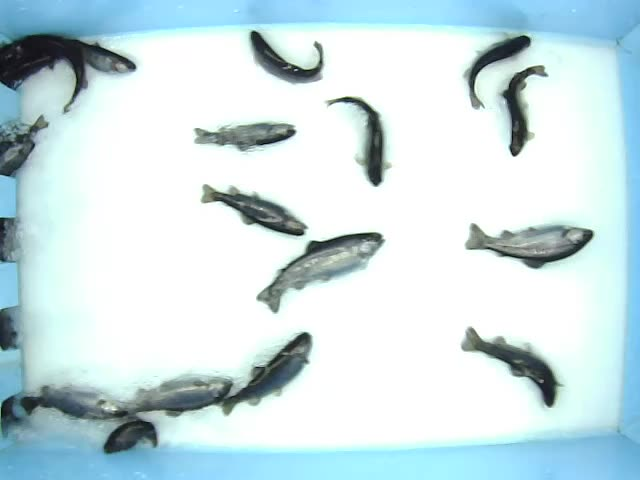fish: (256, 230, 382, 312), (457, 325, 559, 408), (219, 330, 314, 415), (462, 223, 595, 270), (198, 184, 308, 236), (328, 98, 391, 187), (464, 33, 530, 109), (119, 374, 237, 416), (247, 30, 326, 83), (506, 64, 547, 157), (14, 382, 122, 417), (192, 121, 295, 150), (63, 39, 140, 74), (103, 417, 170, 455)
